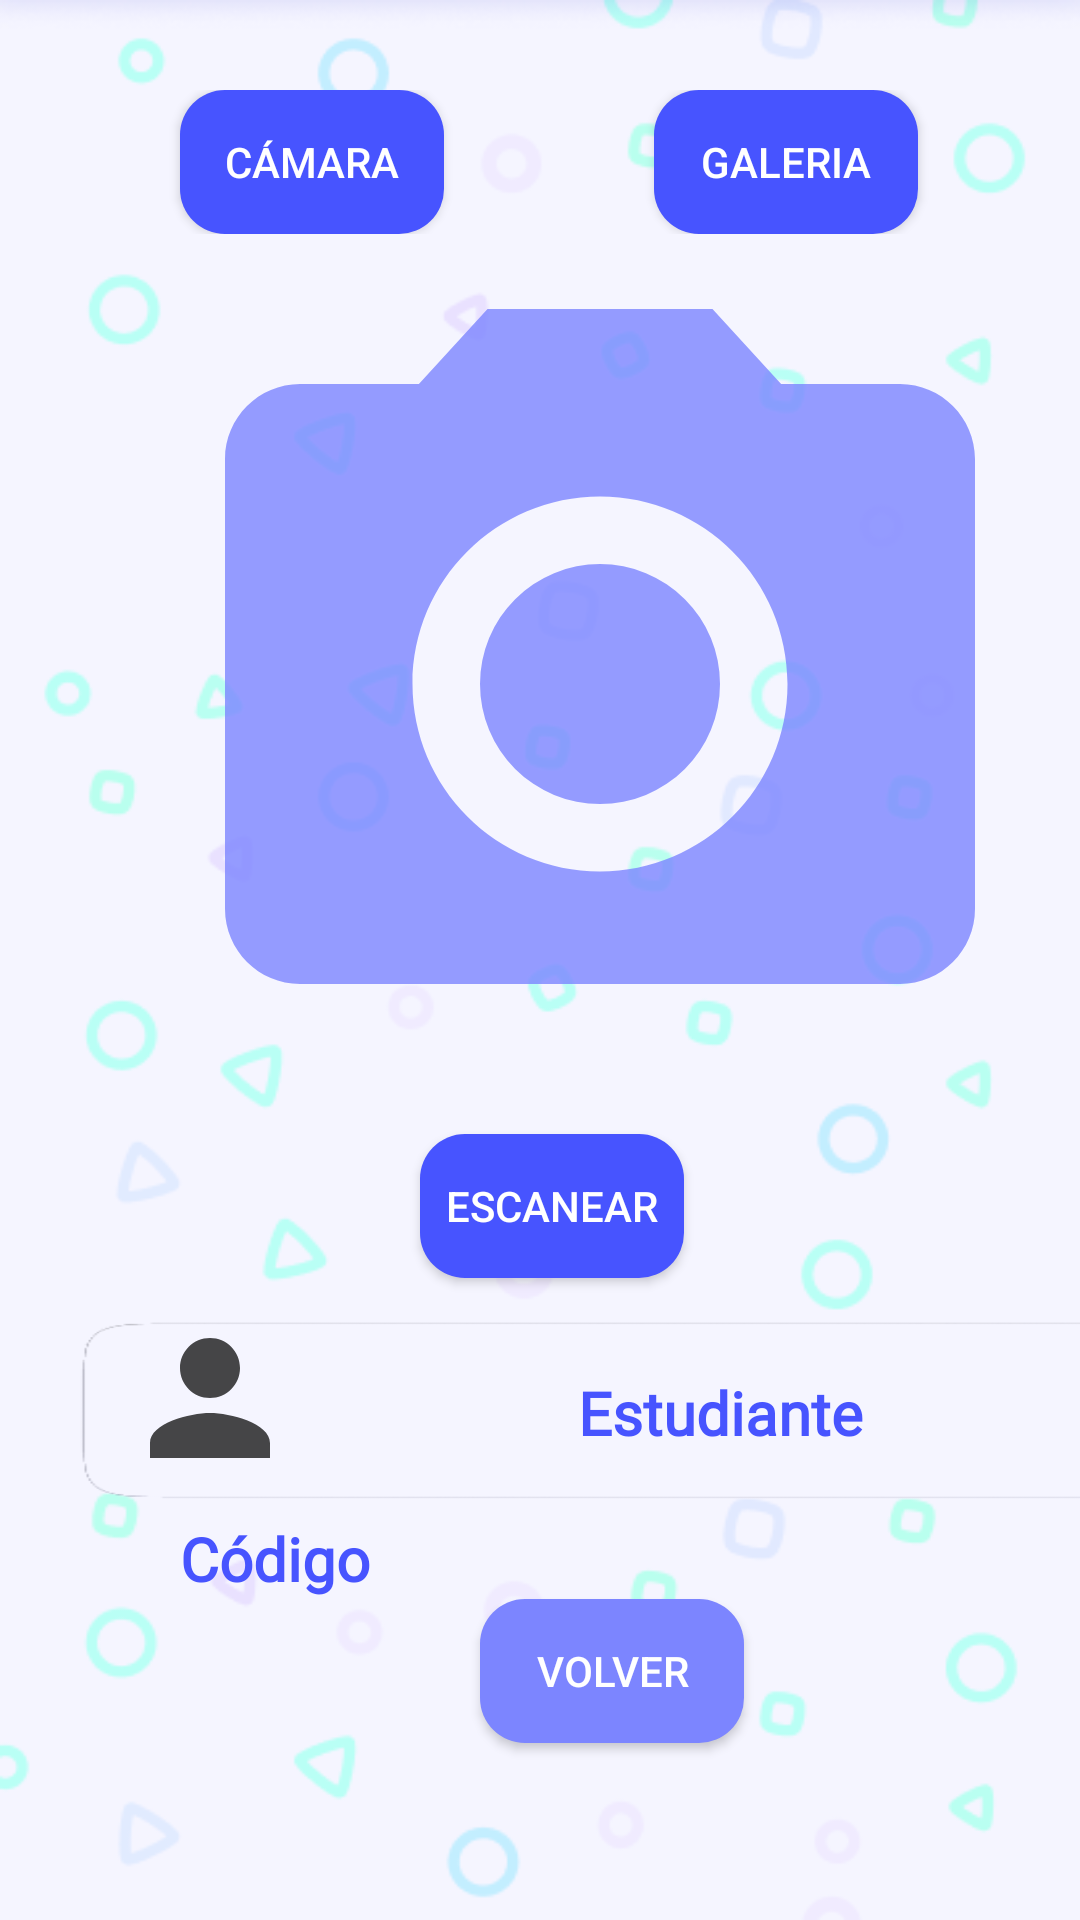

Named icons in this screenshot (1080px×1920px) and their bounding boxes, (x1, y1, x2, y2):
alumno: (120, 1324, 270, 1458)
